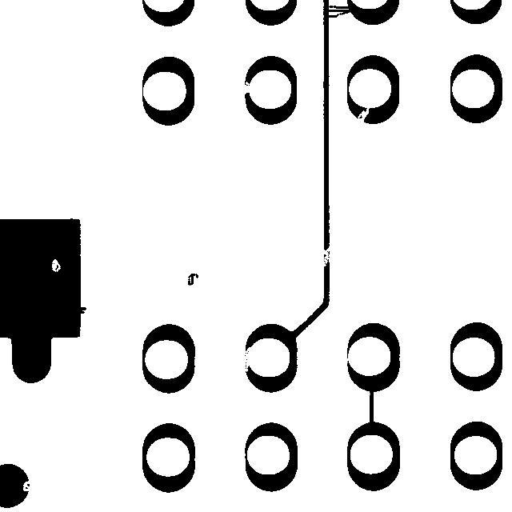copper: (180, 266, 206, 293)
mousebite: (15, 471, 39, 498)
open: (233, 338, 258, 379), (350, 98, 378, 134), (314, 238, 338, 274), (234, 74, 258, 102)
pin-hole: (44, 251, 68, 279)
short: (315, 0, 362, 25), (362, 381, 382, 437)
spur: (67, 299, 94, 321)
